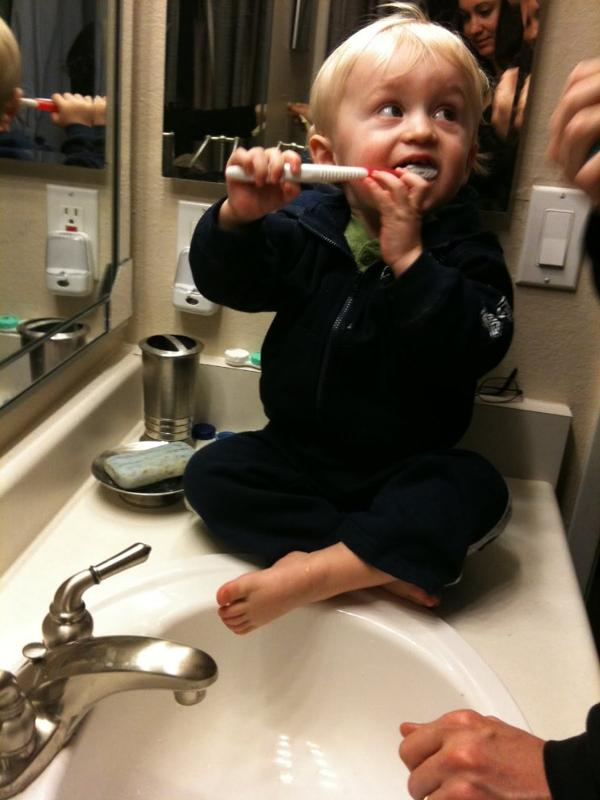person: (178, 13, 525, 652)
